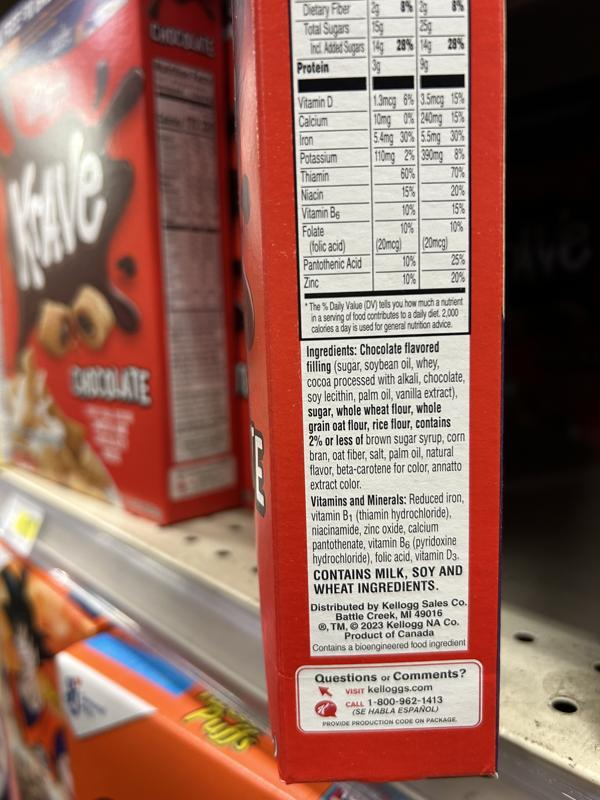ingredients: (304, 340, 468, 492)
